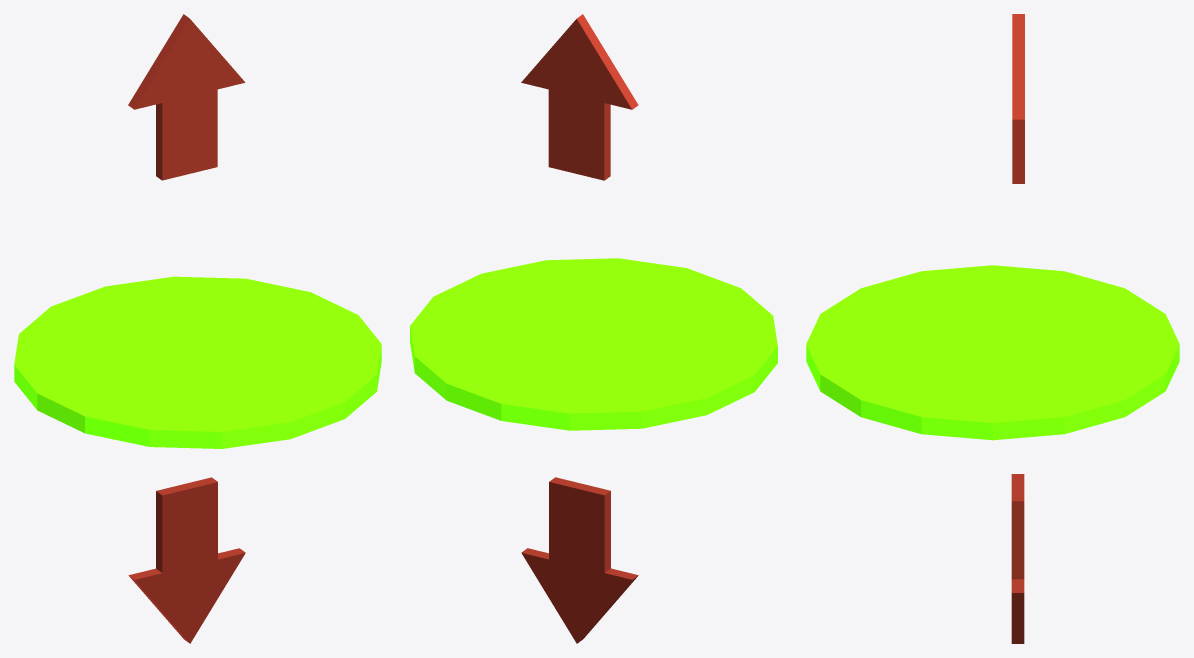
The model's file is Vertical_Green_Pad.glb.
The picture shows the model from 3 angles, left to right: view 1: azimuth 30°, elevation 25°; view 2: azimuth 150°, elevation 25°; view 3: azimuth 270°, elevation 25°; orthographic projection.
Visible parts, largest first — view 1: Cylinder.025, Plane, Plane.001; view 2: Cylinder.025, Plane.001, Plane; view 3: Cylinder.025, Plane, Plane.001.
Part boxes in pixels (box(x1,y1,x2,y2)): Cylinder.025: box(14, 276, 381, 448); Plane: box(128, 477, 245, 643); Plane.001: box(128, 14, 244, 180); Cylinder.025: box(410, 258, 777, 430); Plane.001: box(521, 14, 638, 180); Plane: box(521, 477, 638, 643); Cylinder.025: box(806, 265, 1179, 440); Plane: box(1011, 474, 1024, 643); Plane.001: box(1012, 14, 1024, 183).
Bounding box in the file's own units: 2 × 3.72 × 2.
Materials: 2 (2 with a texture image).
